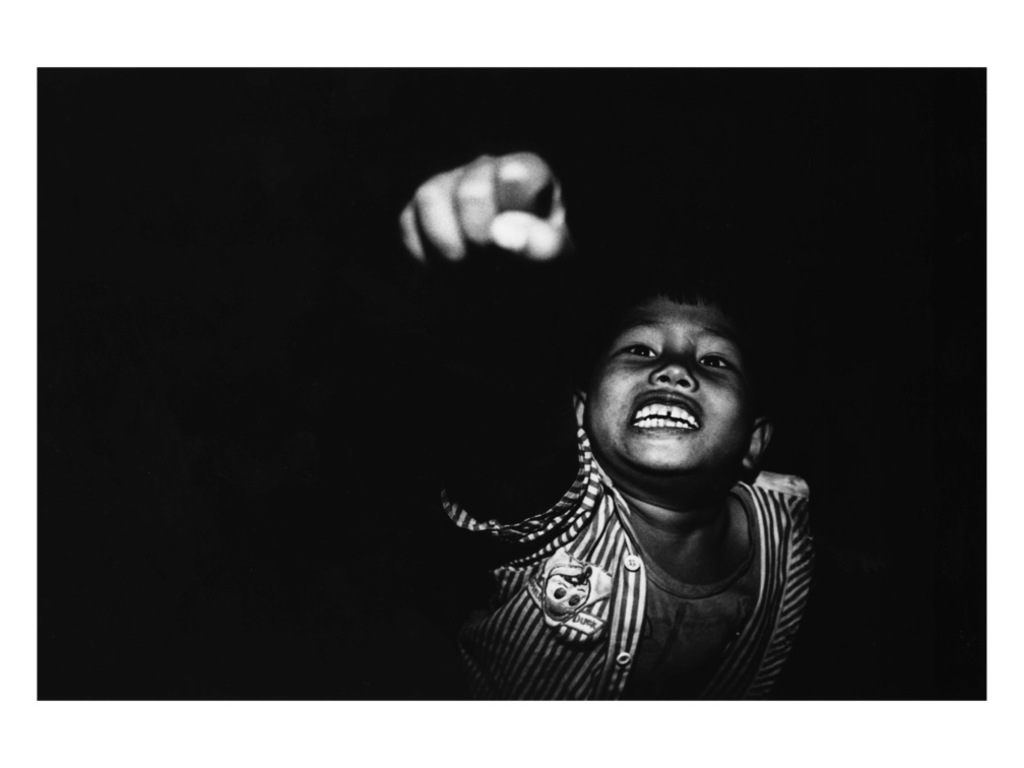Human_hand: (373, 126, 651, 338)
